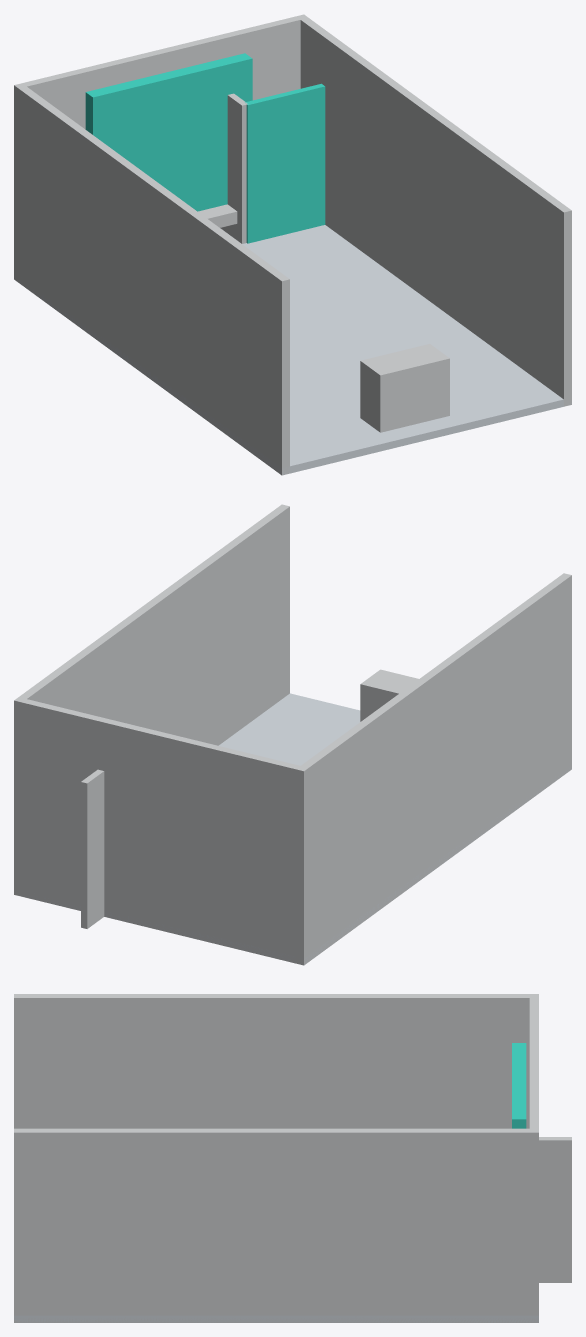
3 views of the same model, one above another, from view 1: azimuth 30°, elevation 25°; view 2: azimuth 150°, elevation 25°; view 3: azimuth 270°, elevation 25° (orthographic). The views are drawn at different scales.
Parts seen in each view (by area): view 1: Exhibition Booth Concept; view 2: Exhibition Booth Concept; view 3: Exhibition Booth Concept.
Part boxes in pixels (box(x1,y1,x2,y2)): Exhibition Booth Concept: box(14, 14, 571, 475); Exhibition Booth Concept: box(14, 504, 571, 965); Exhibition Booth Concept: box(14, 994, 571, 1322).
Bounding box in the file's own units: 5 × 3.2 × 8.51.
